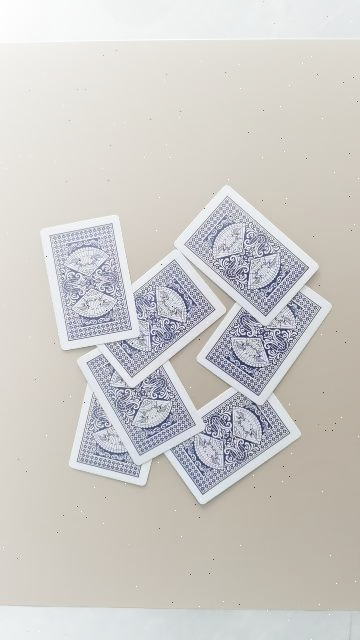card: (175, 186, 319, 325), (98, 250, 226, 388), (198, 286, 331, 405), (165, 389, 301, 504), (78, 349, 204, 465), (41, 215, 139, 350), (69, 385, 151, 485)
